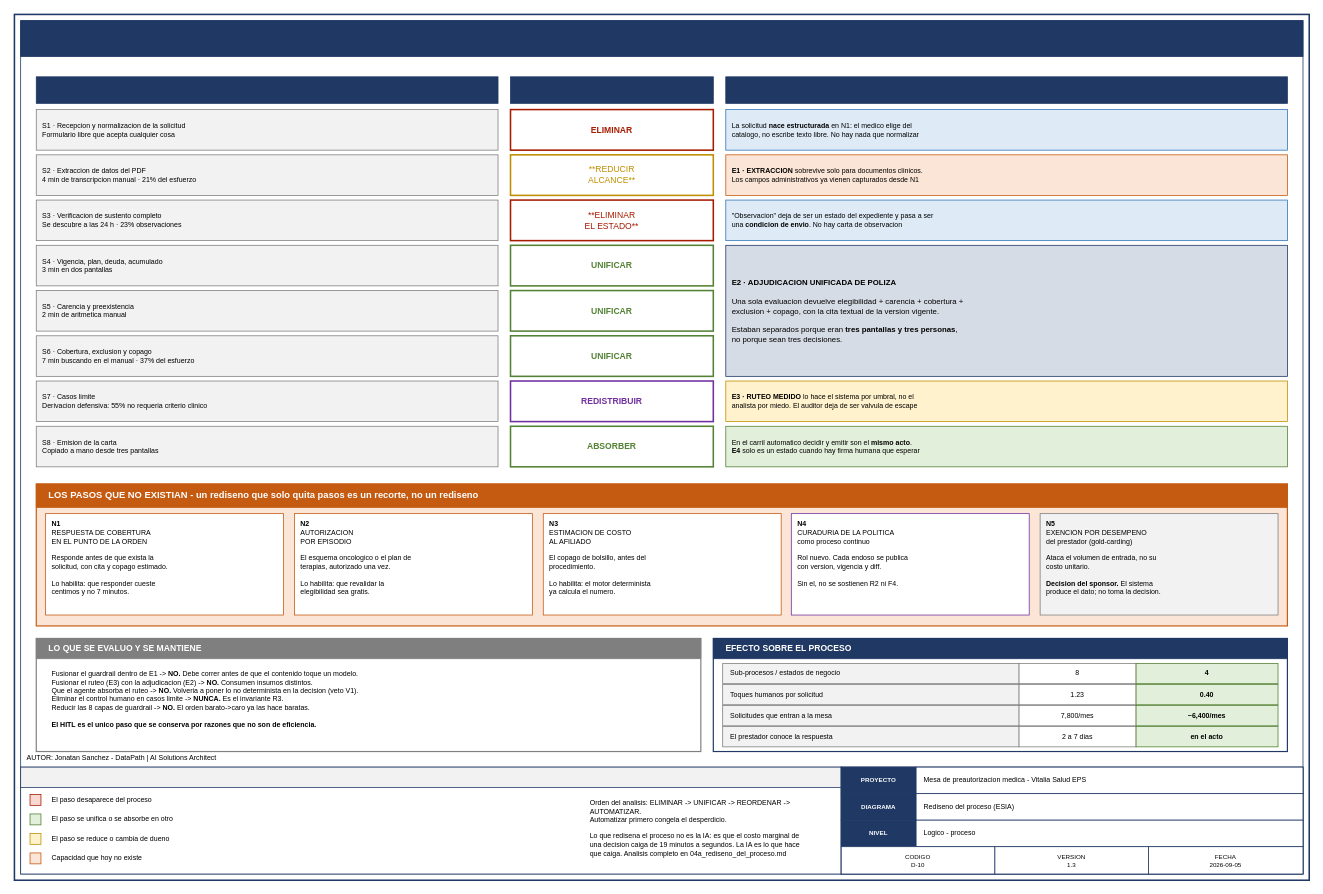
Image size: 1323x894. Some labels were removed from this diagram. Each missing label, with the centre of its shape:
ACCION DE REDISENO: the point at 611,89
LEYENDA / NOTAS: the point at 430,776
PROCESO ACTUAL - ocho sub-procesos: the point at 266,89
PROCESO REDISENADO: the point at 1006,89
REDISENO DEL PROCESO - DE OCHO SUB-PROCESOS A CUATRO ESTADOS: the point at 661,38
